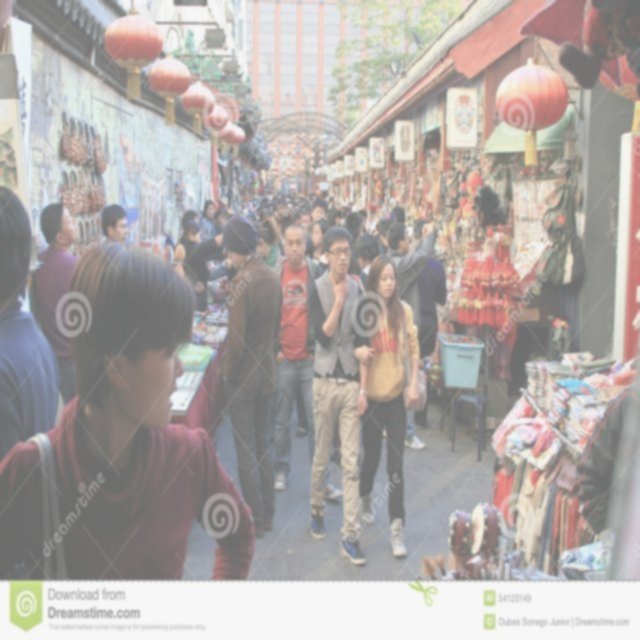pessoa: (0, 241, 256, 584), (348, 252, 428, 560), (214, 211, 285, 542), (306, 224, 372, 566), (272, 222, 344, 500), (0, 181, 66, 464), (383, 219, 437, 452), (28, 201, 82, 410), (576, 381, 638, 541), (204, 214, 264, 374), (250, 218, 286, 451), (218, 212, 263, 392), (413, 222, 449, 428), (285, 236, 316, 438), (176, 219, 223, 312), (352, 232, 380, 287), (272, 185, 338, 208), (342, 211, 365, 276), (101, 203, 129, 244), (269, 212, 293, 258), (311, 216, 330, 268), (374, 218, 397, 258), (198, 198, 218, 242), (406, 218, 428, 255), (177, 210, 199, 244), (380, 206, 406, 222), (326, 204, 341, 227), (300, 207, 314, 227), (358, 208, 368, 234), (256, 196, 274, 210), (290, 207, 303, 226), (340, 206, 352, 226), (370, 220, 380, 237), (244, 210, 257, 222), (259, 209, 270, 222), (328, 195, 337, 210), (340, 202, 344, 216), (346, 201, 353, 207)
